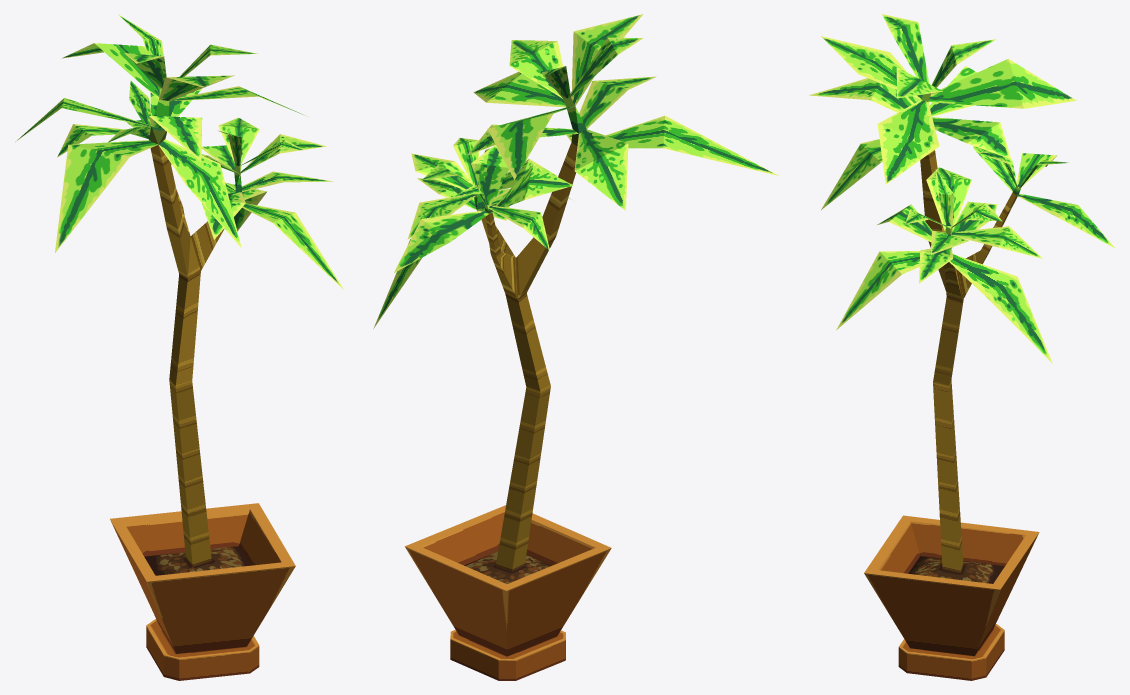
The model's file is potted plant.fbx.
3 renders of one model, left to right at view 1: azimuth 30°, elevation 25°; view 2: azimuth 150°, elevation 25°; view 3: azimuth 270°, elevation 25°, orthographic. The views are drawn at different scales.
Parts seen in each view (by area): view 1: plant; view 2: plant; view 3: plant.
Part boxes in pixels (left/top/right/bottom): plant: left=15, top=14, right=343, bottom=680; plant: left=373, top=14, right=778, bottom=680; plant: left=809, top=14, right=1114, bottom=680.
Bounding box in the file's own units: 1225 × 2305 × 1068.
